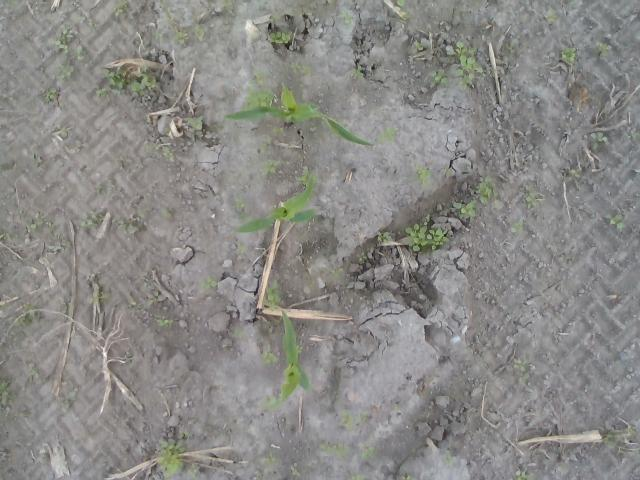Maize: (224, 84, 374, 146), (235, 173, 316, 233), (279, 309, 311, 402)
Weeds: (95, 63, 159, 98), (444, 40, 483, 86), (55, 28, 85, 81), (404, 218, 449, 252), (158, 439, 186, 480), (244, 74, 272, 107), (477, 176, 500, 209), (14, 302, 41, 326), (78, 208, 104, 228), (27, 216, 55, 234), (394, 0, 418, 21), (266, 278, 282, 308), (511, 358, 529, 384), (0, 378, 16, 407), (126, 209, 144, 234), (61, 384, 78, 409), (359, 440, 377, 463), (452, 200, 476, 217), (160, 0, 176, 25), (89, 288, 111, 306), (376, 126, 396, 145), (320, 442, 347, 456), (174, 23, 190, 46), (289, 61, 313, 76), (260, 394, 280, 412), (558, 46, 578, 64), (591, 131, 609, 150), (416, 164, 432, 184), (340, 408, 353, 432), (431, 67, 448, 85), (606, 213, 624, 230), (260, 159, 278, 176), (399, 463, 416, 480), (338, 5, 353, 24), (198, 274, 218, 288), (260, 352, 280, 366), (112, 0, 128, 17), (600, 432, 616, 448), (269, 33, 291, 44), (186, 115, 202, 130), (263, 451, 281, 464), (376, 230, 392, 244), (259, 136, 273, 152), (596, 40, 610, 56), (544, 6, 558, 22), (196, 22, 207, 42), (44, 88, 58, 103), (441, 448, 453, 465), (188, 462, 199, 480), (350, 66, 364, 80), (296, 172, 308, 188), (162, 146, 175, 160), (235, 196, 248, 210), (353, 411, 369, 422), (526, 191, 536, 208), (157, 316, 174, 326), (230, 326, 247, 336), (513, 472, 534, 480), (330, 265, 346, 275), (160, 207, 173, 219), (272, 125, 286, 136), (236, 242, 246, 256), (290, 464, 300, 478), (219, 0, 233, 10), (152, 30, 163, 42), (570, 168, 583, 178), (510, 223, 524, 232), (350, 472, 365, 480), (356, 251, 368, 261), (414, 40, 424, 50), (624, 424, 636, 432), (270, 15, 280, 24), (296, 344, 304, 354), (632, 168, 640, 178), (180, 432, 188, 440)
